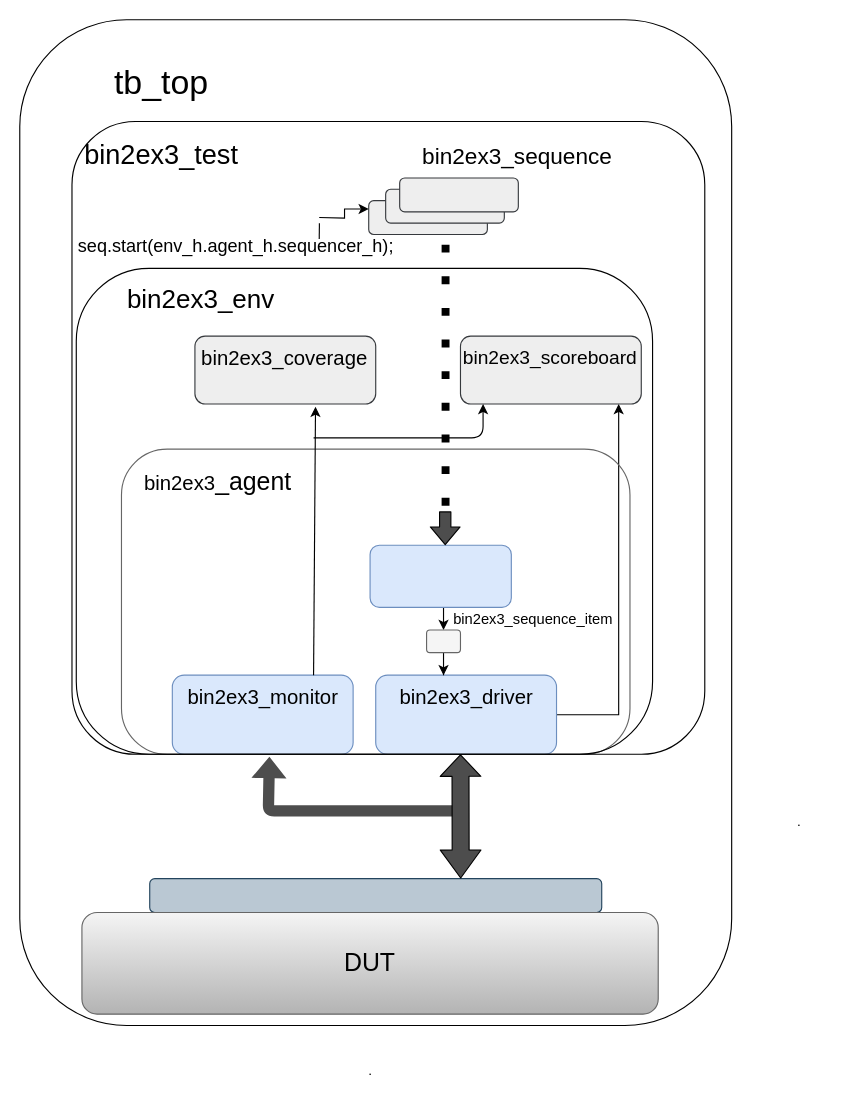
Image size: 842x1102. Some labels were removed from this diagram. The shapes that lost their labels are listed below. From the top down, each one's centre as x and y in pixels, then its label:
At point (440, 575): "bin2ex3 _sequencer".
At point (375, 894): "interface".
